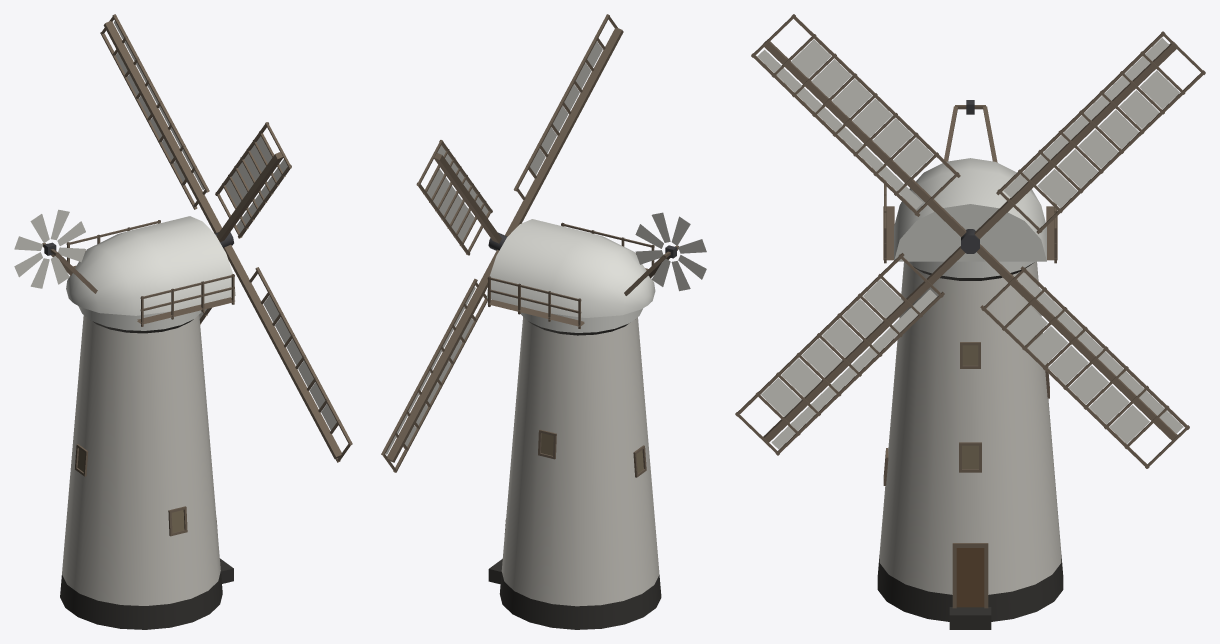
Rendered from windmill.glb.
3 views of the same model, side by side, from view 1: azimuth 30°, elevation 25°; view 2: azimuth 150°, elevation 25°; view 3: azimuth 270°, elevation 25° (orthographic). The views are drawn at different scales.
Visible parts, largest first — view 1: windmill_lod0, windmill_rotor_lod0; view 2: windmill_lod0, windmill_rotor_lod0; view 3: windmill_lod0, windmill_rotor_lod0.
Boxes of the visible parts, <box> form: windmill_lod0: <box>14,209,235,629</box>; windmill_rotor_lod0: <box>100,14,352,462</box>; windmill_lod0: <box>486,212,706,629</box>; windmill_rotor_lod0: <box>381,14,623,472</box>; windmill_lod0: <box>877,100,1063,629</box>; windmill_rotor_lod0: <box>735,14,1205,468</box>.
Size of what is drawn, in the model's own units: 9.34 by 19.1 by 13.64.
